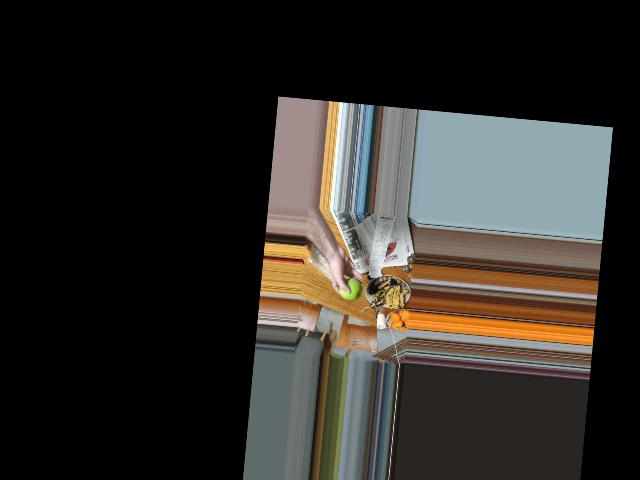apple: (340, 272, 364, 302)
